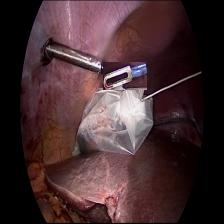Bipolar: (103, 62, 147, 90)
Specimen Bag: (64, 90, 160, 168)
